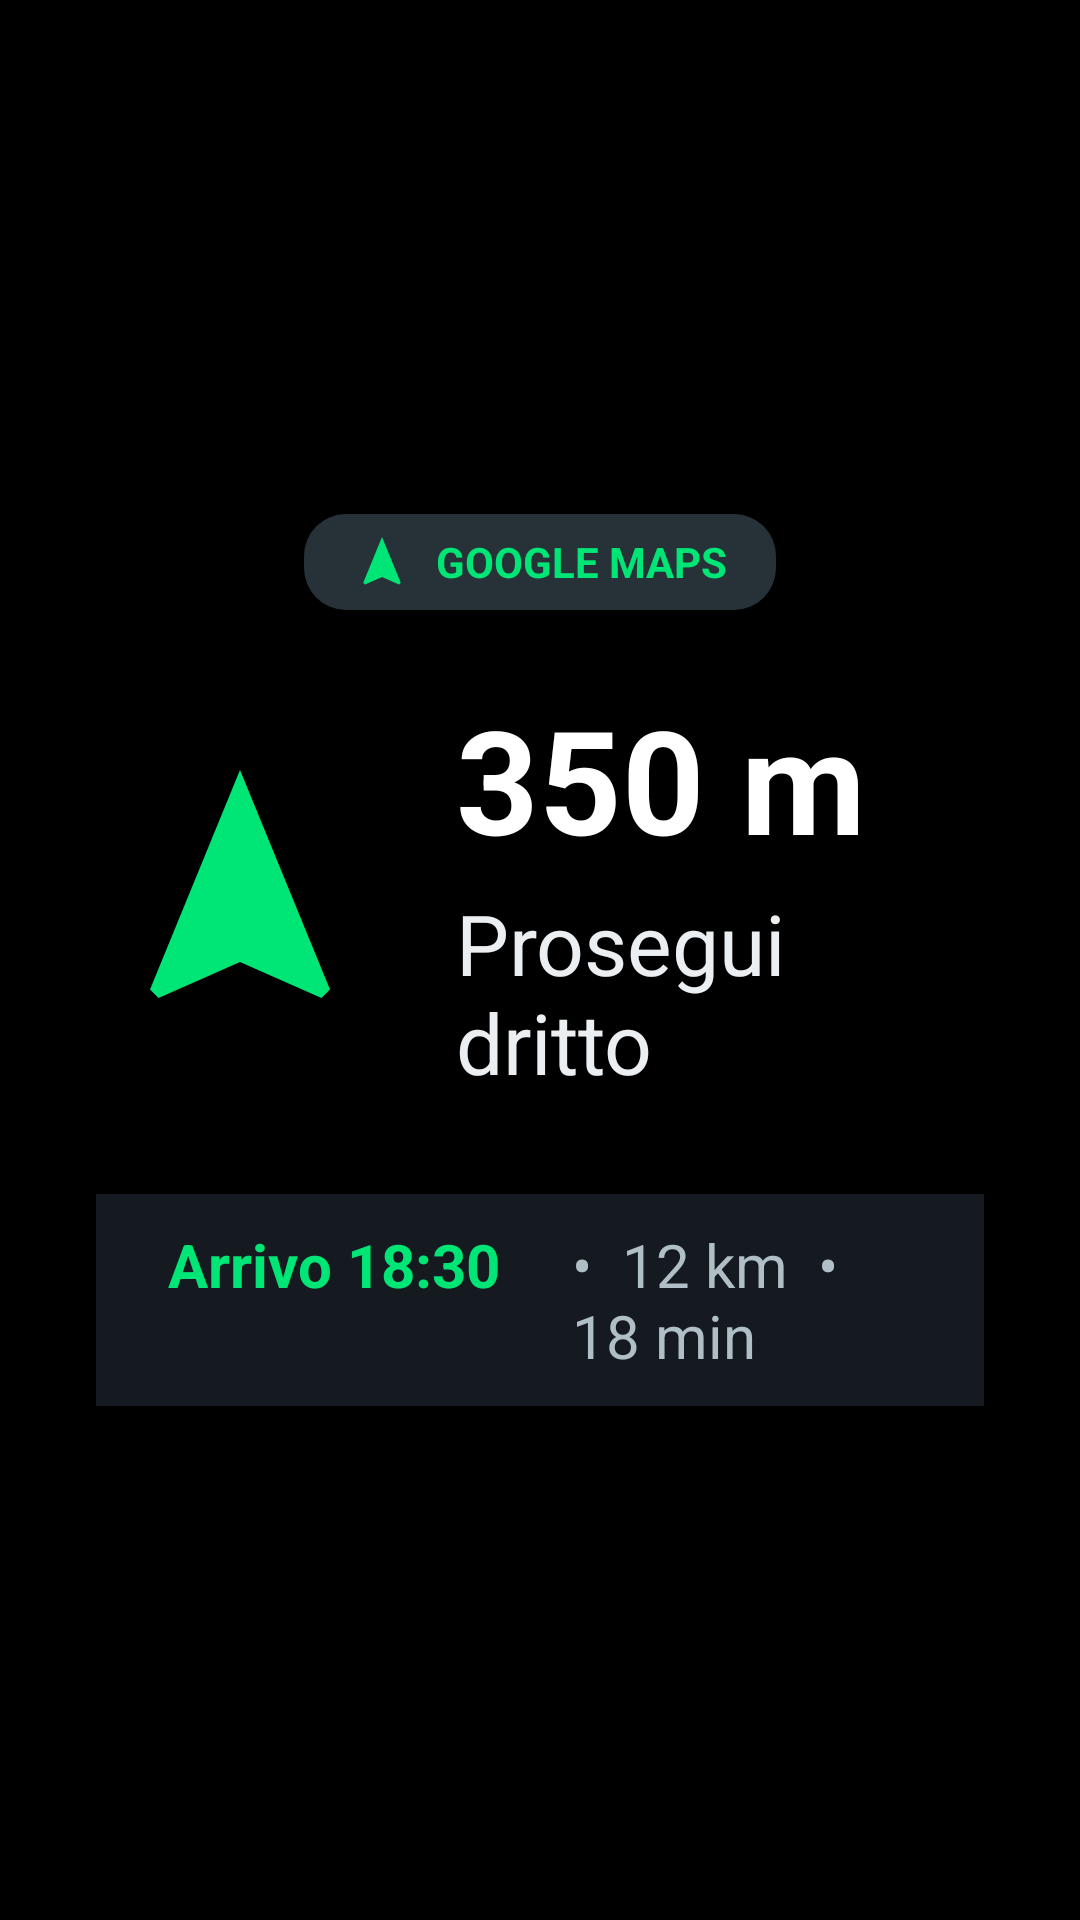

Icons on this 1080*1920 Android screen, each with its box as [left=x1, top=y1, right=x2, bottom=y2]:
Maneuver Icon: [left=150, top=770, right=330, bottom=998]
Nav Source: [left=363, top=537, right=401, bottom=585]
